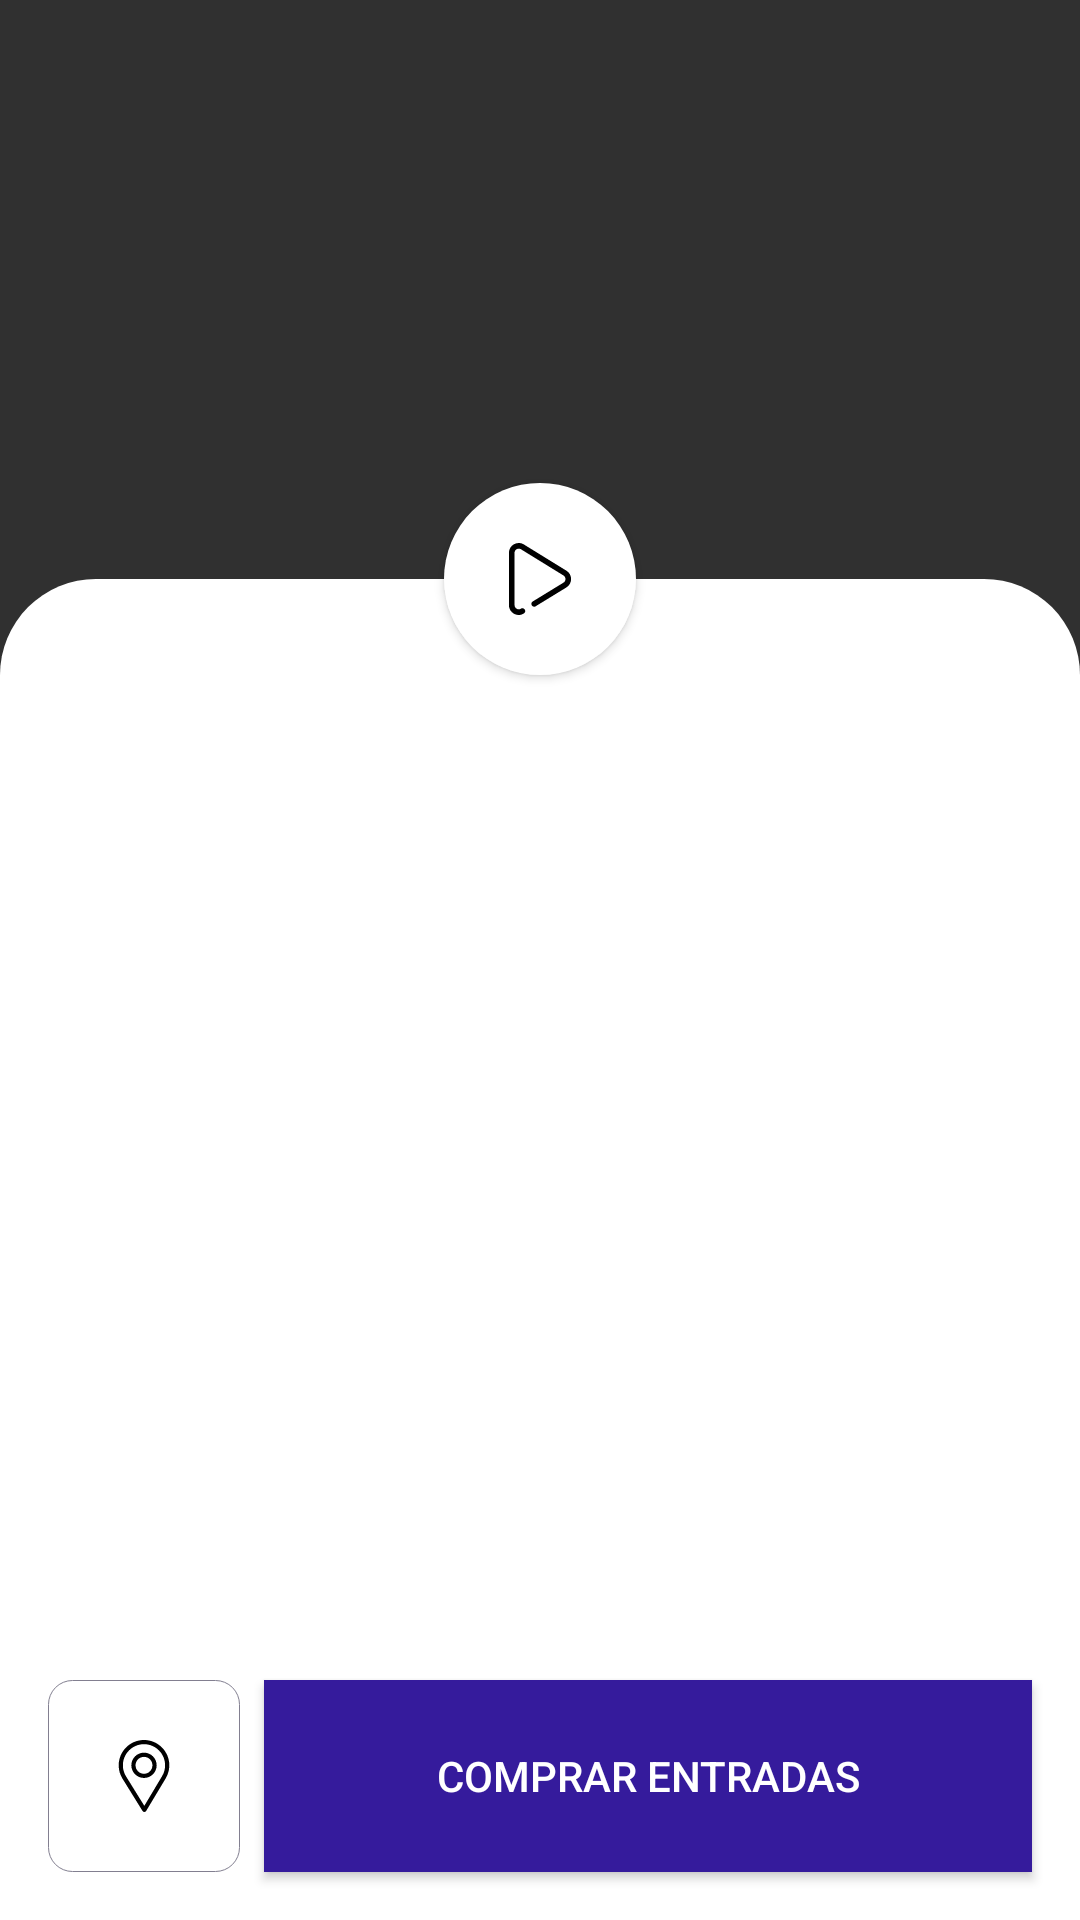

Icon click points for this 1080 x 1920 phone screenshot, format point (x, y):
location: point (144, 1776)
play: point (540, 579)
